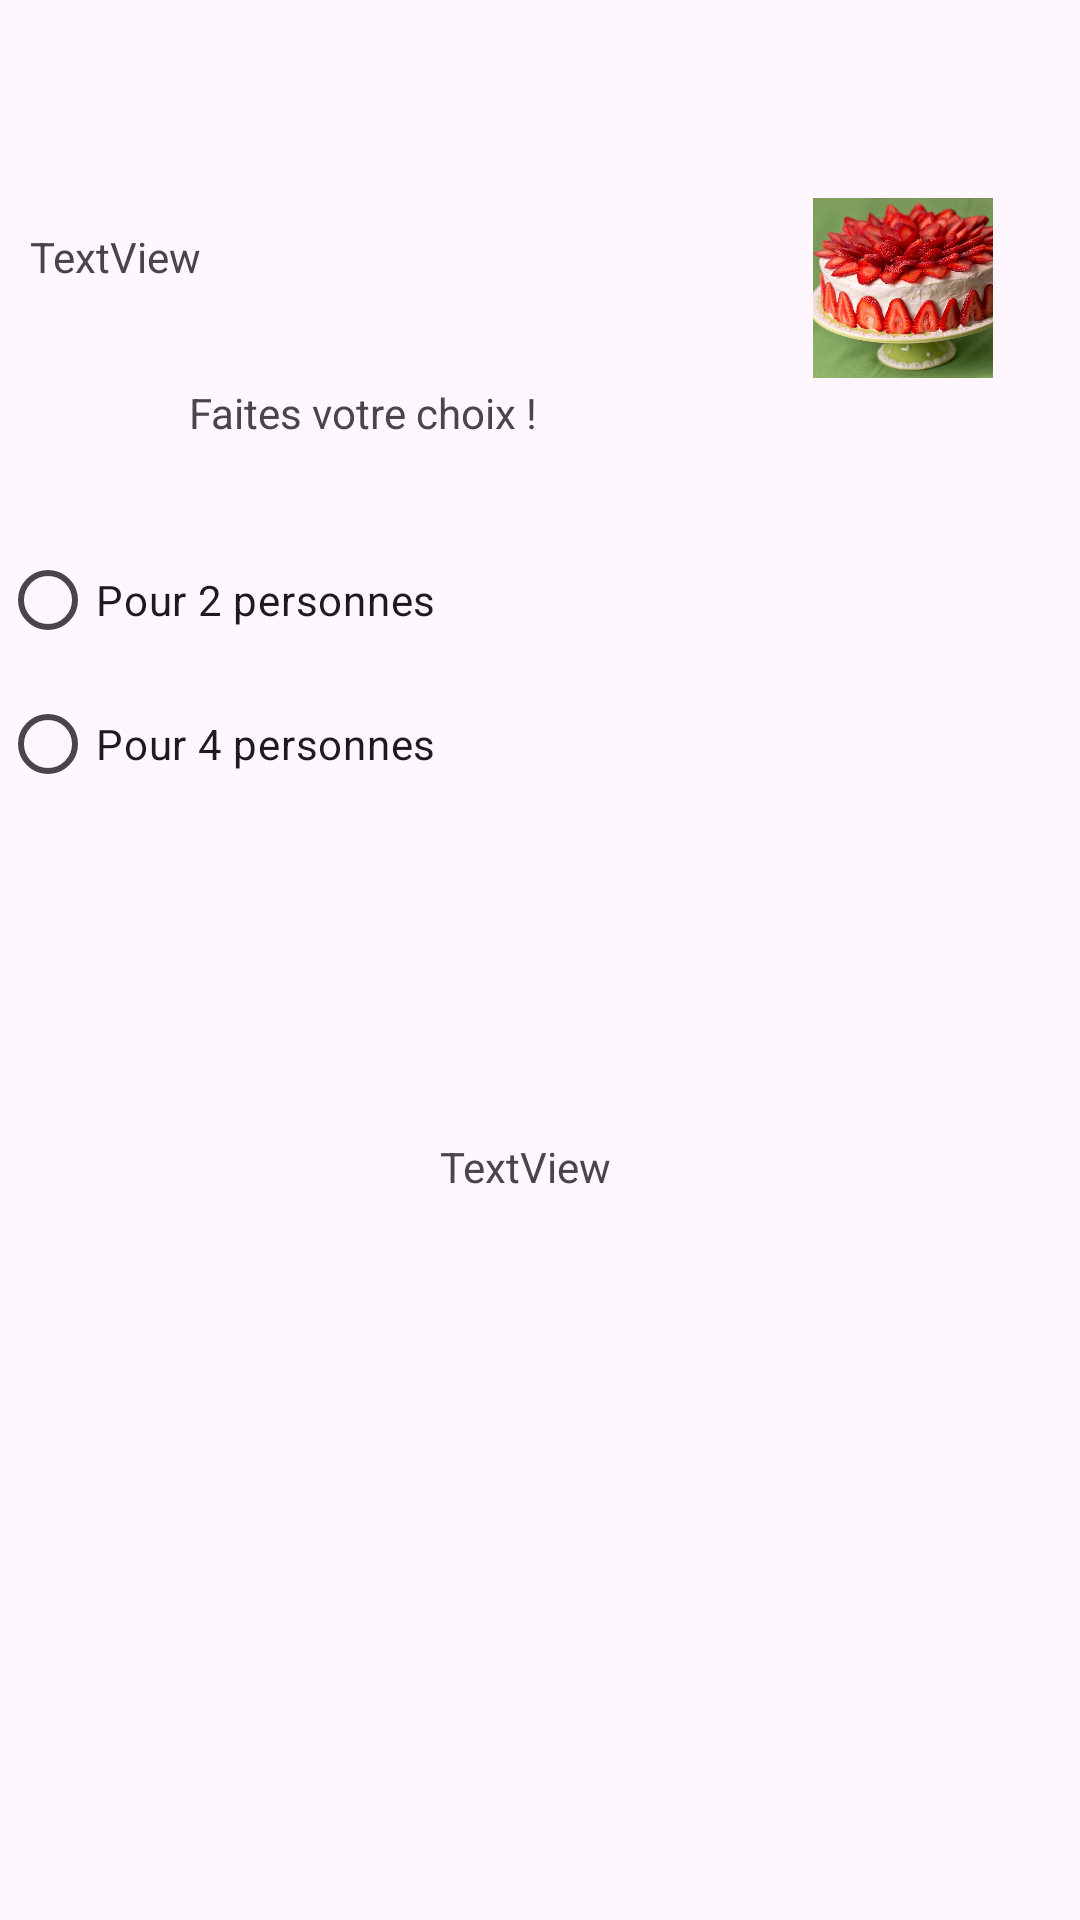

Locate icon controls on the screen. Image size 1080px x 1920px, boxes as (x1, y1, x2, y2).
fraise: (813, 198, 993, 378)
